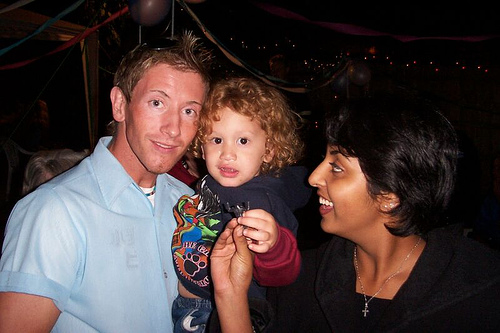without_mask: (110, 60, 205, 173), (306, 137, 402, 241), (201, 108, 274, 188)
